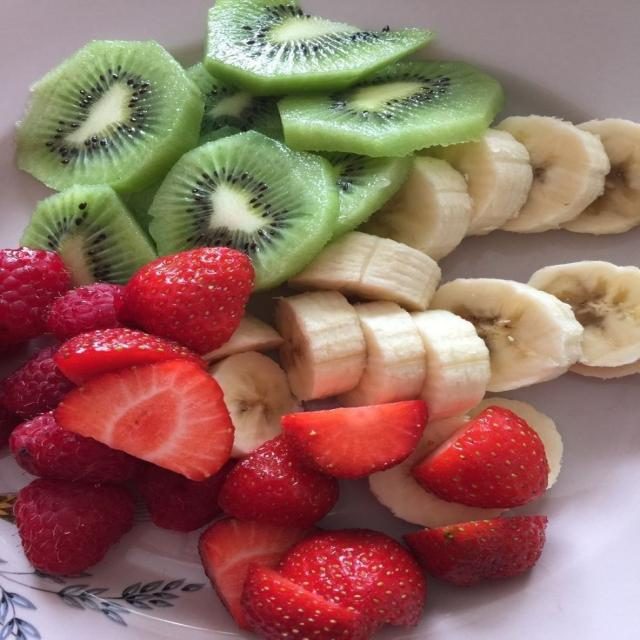banana slice: (432, 279, 582, 392), (369, 417, 503, 527), (498, 116, 609, 232), (289, 232, 440, 310), (361, 156, 473, 260), (529, 261, 639, 366), (426, 130, 533, 235), (276, 291, 366, 400), (209, 352, 301, 457), (339, 302, 426, 406), (563, 119, 639, 234), (468, 398, 563, 488), (412, 310, 490, 419), (204, 314, 282, 362), (570, 362, 639, 379)
kiwi: (150, 131, 338, 290), (17, 40, 203, 191), (204, 0, 435, 95), (279, 61, 503, 157), (21, 186, 157, 285), (187, 63, 281, 144), (321, 152, 410, 237)
strawberry sliced: (55, 361, 233, 480), (278, 529, 424, 630), (412, 406, 549, 509), (124, 247, 253, 354), (198, 517, 314, 630), (14, 478, 134, 575), (281, 401, 427, 478), (220, 435, 338, 527), (404, 516, 547, 586), (10, 412, 141, 483), (242, 566, 368, 639), (54, 328, 206, 385), (137, 462, 234, 532), (0, 247, 70, 342), (4, 346, 75, 419), (47, 283, 123, 341)
